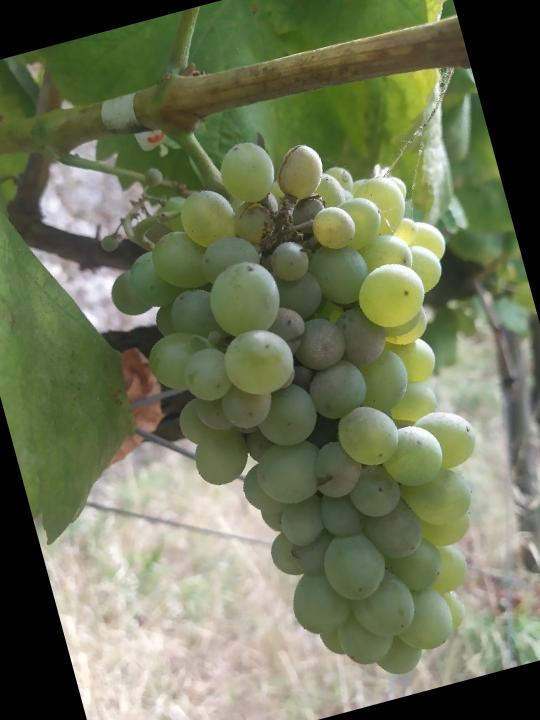grape: (78, 89, 540, 720)
